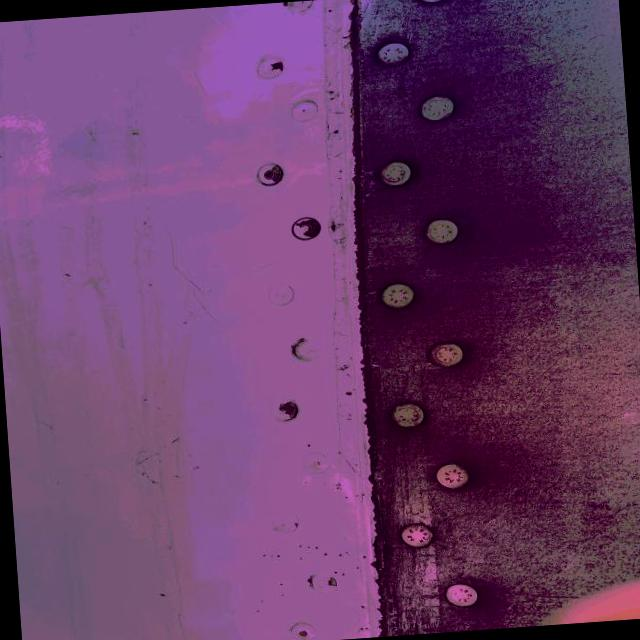crack: (148, 228, 218, 326), (126, 441, 172, 491)
